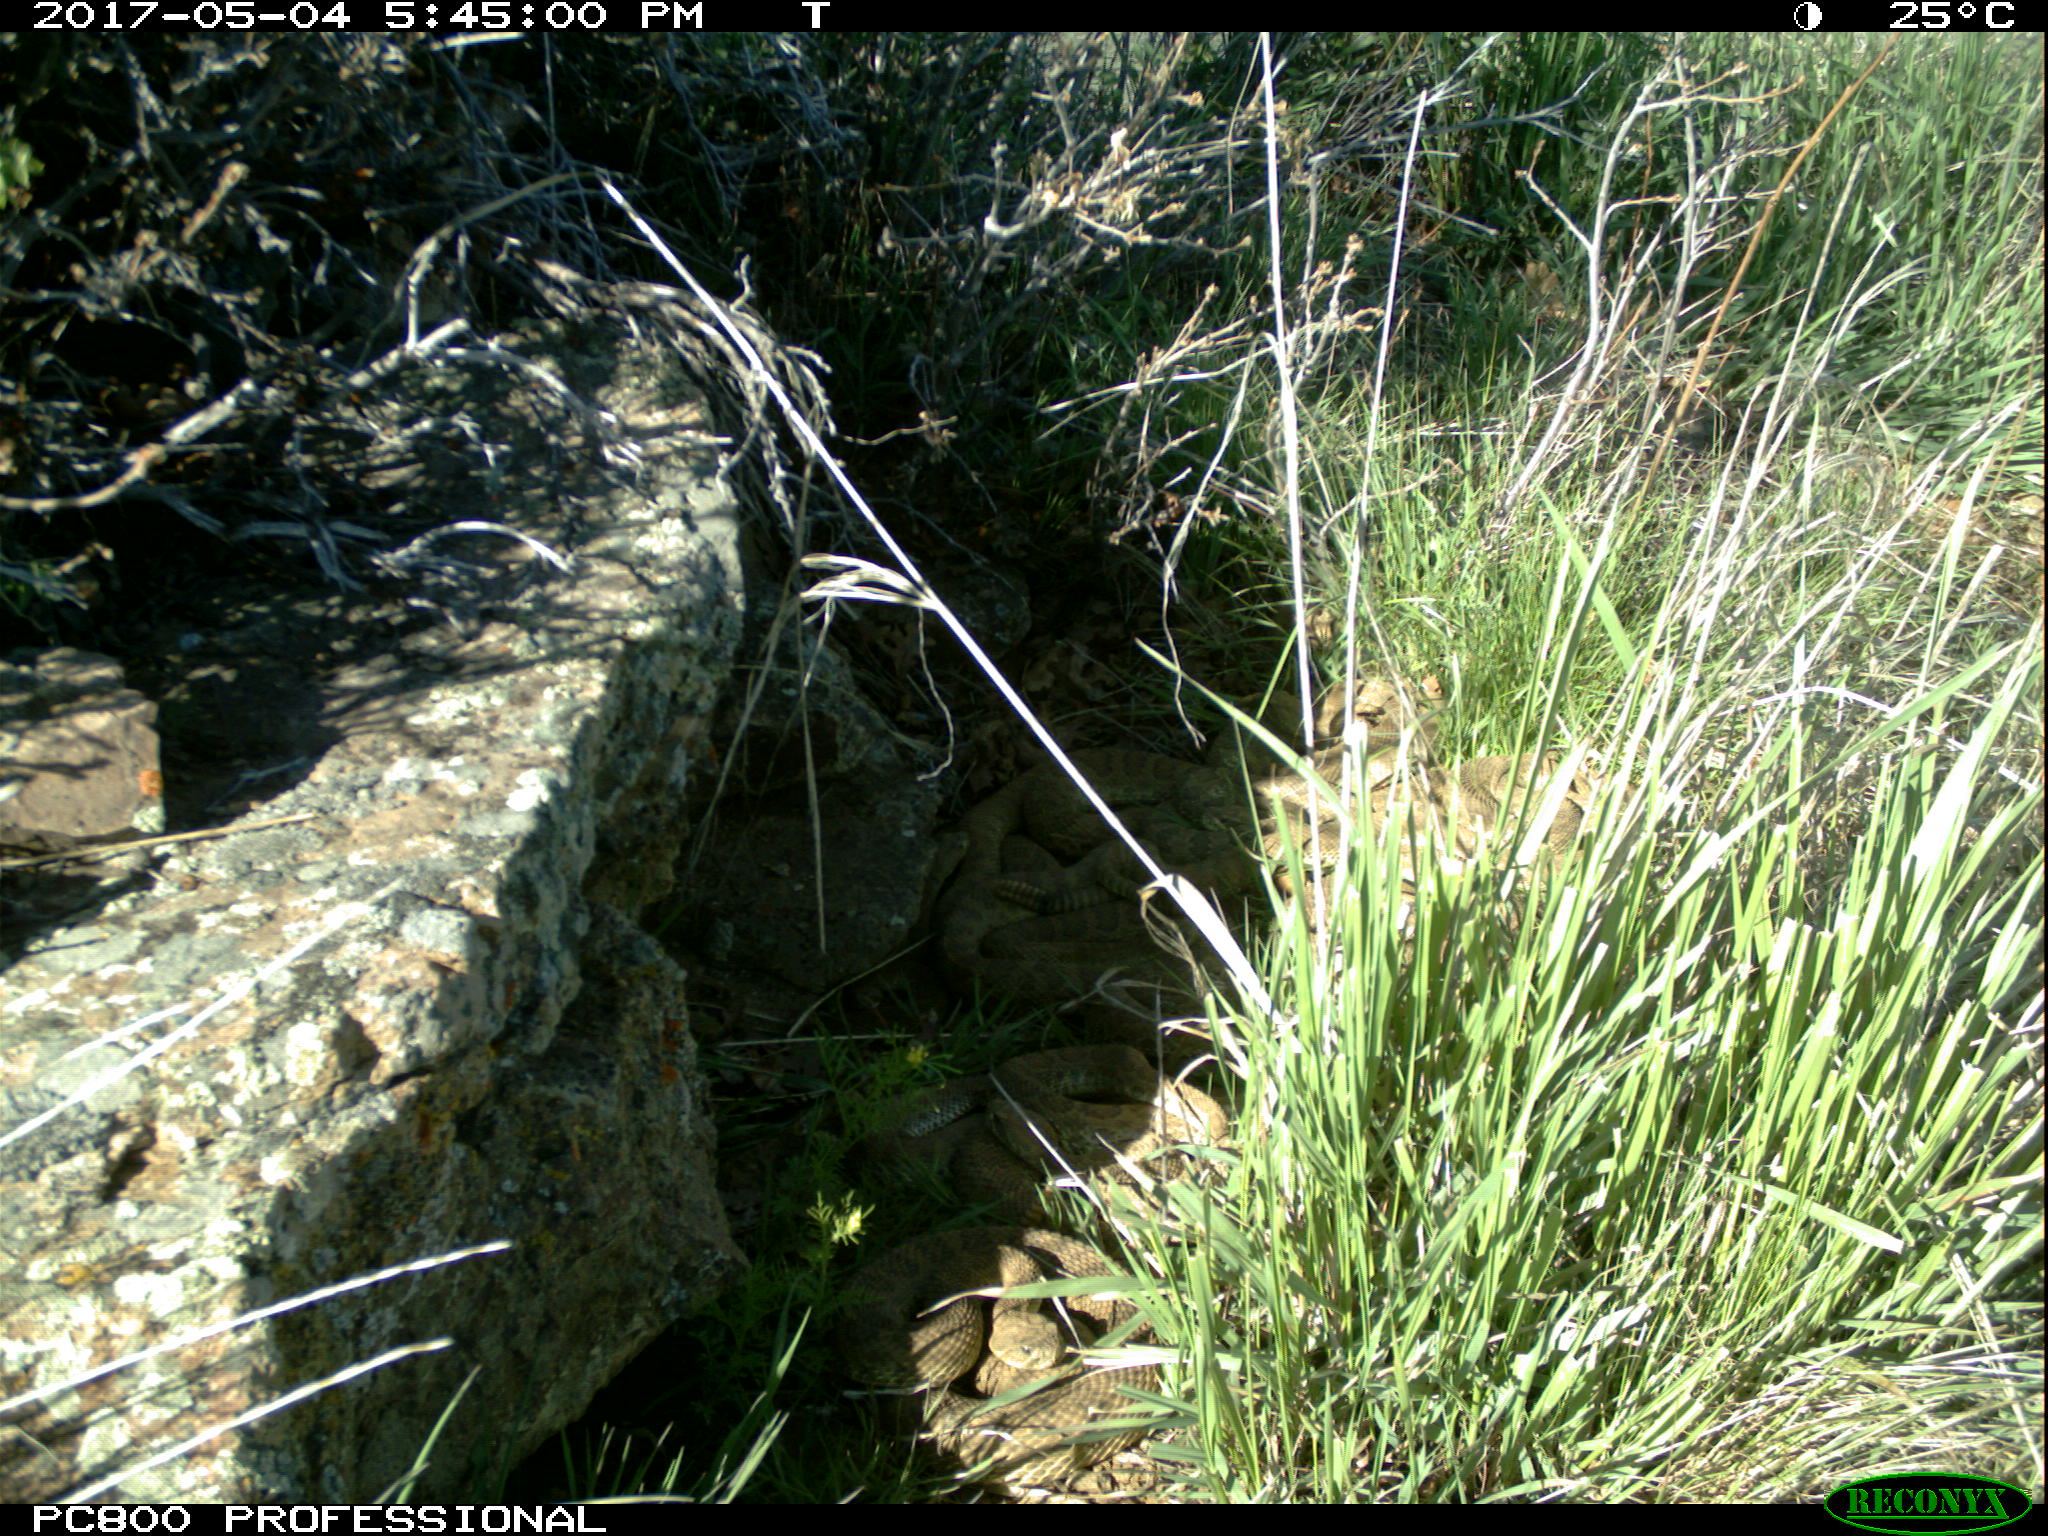snake: (939, 749, 1330, 1021), (839, 1221, 1169, 1475), (827, 1036, 1255, 1213), (1240, 682, 1463, 816), (1430, 752, 1614, 865)
